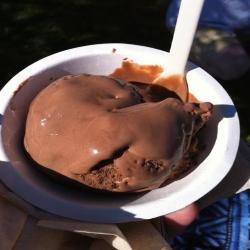icecream: (26, 67, 212, 210)
